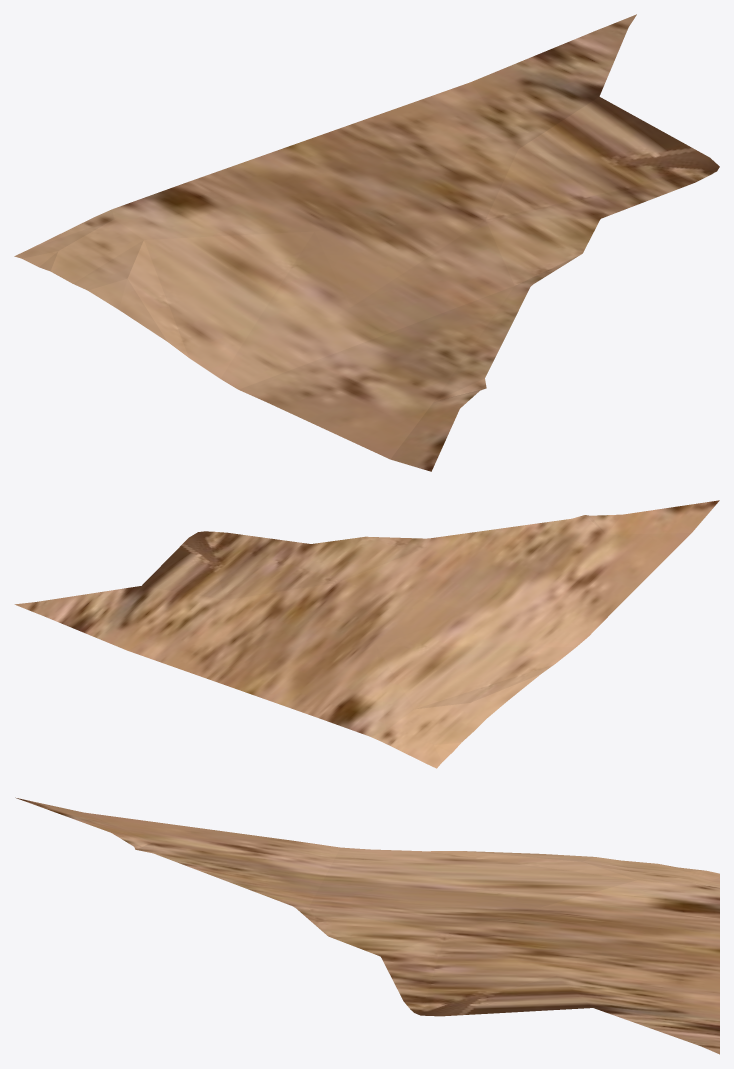
The picture shows the model from 3 angles, top to bottom: view 1: azimuth 30°, elevation 25°; view 2: azimuth 150°, elevation 25°; view 3: azimuth 270°, elevation 25°; orthographic projection. The views are drawn at different scales.
Bounding box in the file's own units: 0.9323 × 0.1288 × 1.08.
Materials: 1 (1 with a texture image).
